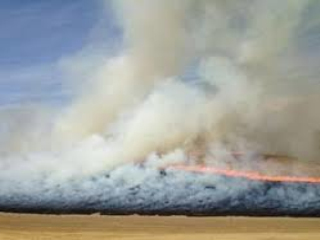smoke: (15, 18, 311, 202)
